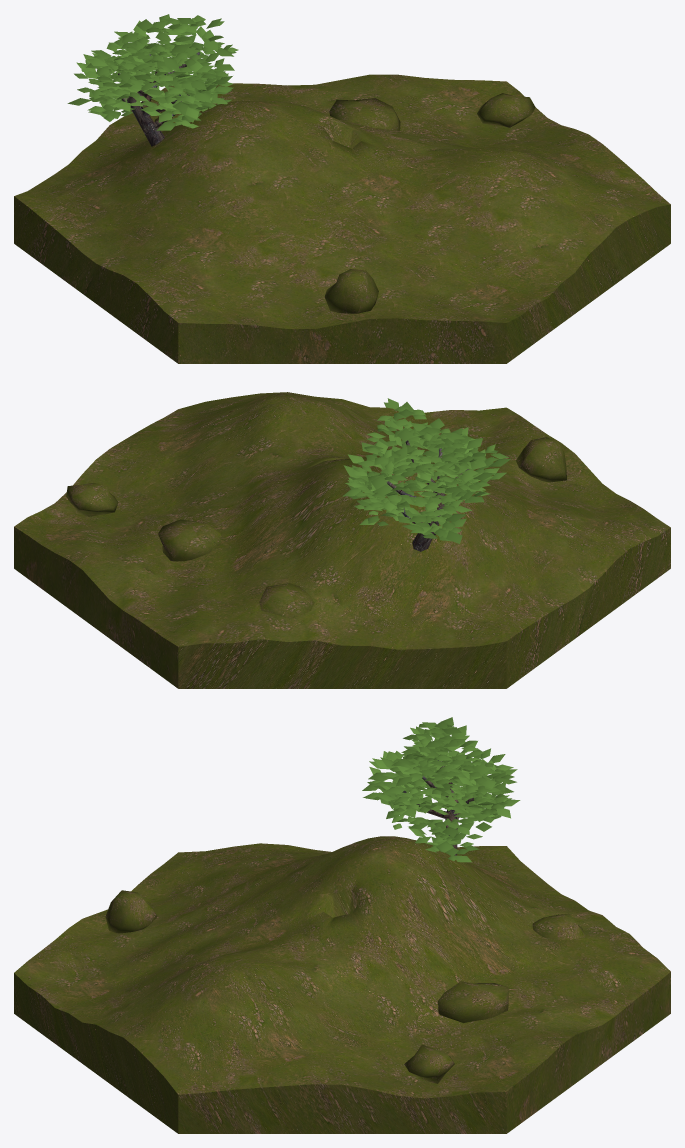
The model's file is env-terrain-hills.glb.
3 renders of one model, top to bottom at view 1: azimuth 30°, elevation 25°; view 2: azimuth 150°, elevation 25°; view 3: azimuth 270°, elevation 25°, orthographic.
Parts seen in each view (by area): view 1: terrain hills · authored textured miniature; view 2: terrain hills · authored textured miniature; view 3: terrain hills · authored textured miniature.
Part boxes in pixels (box(x1,y1,x2,y2)): terrain hills · authored textured miniature: box(14, 14, 670, 363); terrain hills · authored textured miniature: box(14, 392, 670, 688); terrain hills · authored textured miniature: box(14, 717, 670, 1133).
Size of the model in its own units: 1.63 by 0.6906 by 1.88.
3 materials, 2 textured.
